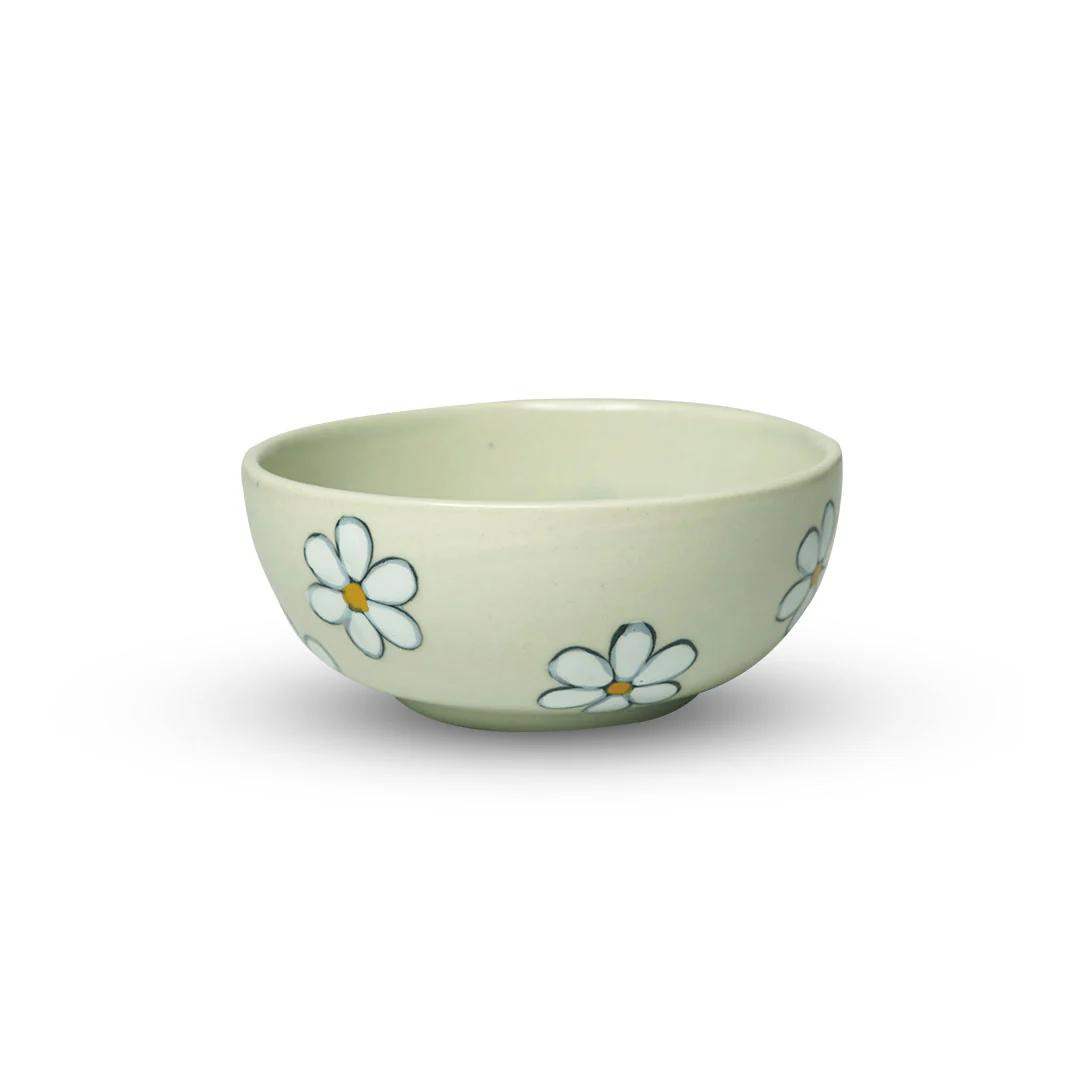bowl: (233, 388, 852, 740)
